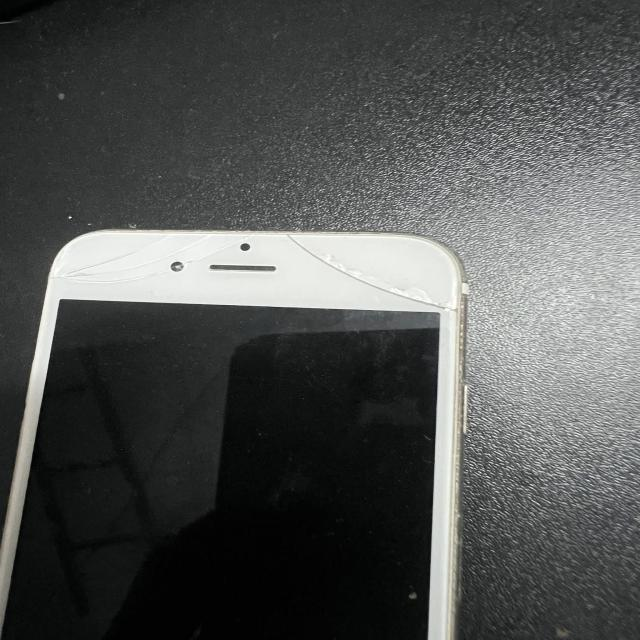physical_damage: (284, 232, 460, 314), (46, 234, 260, 284)
scratch: (405, 590, 420, 602)
